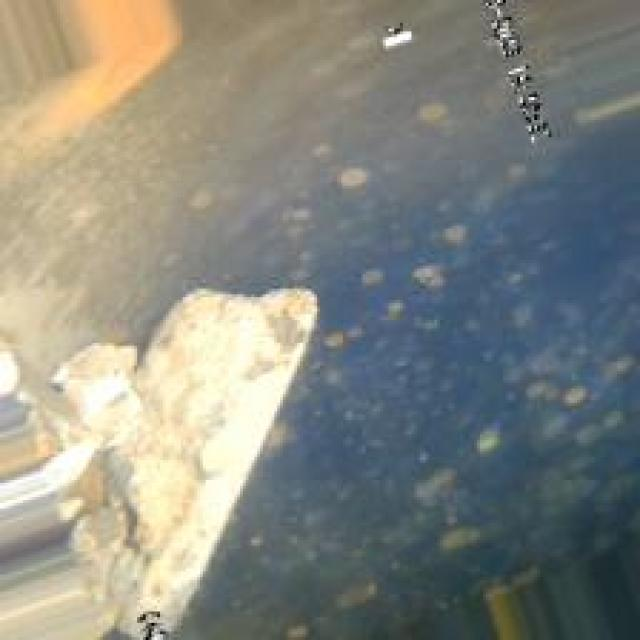stone: (66, 283, 323, 631)
